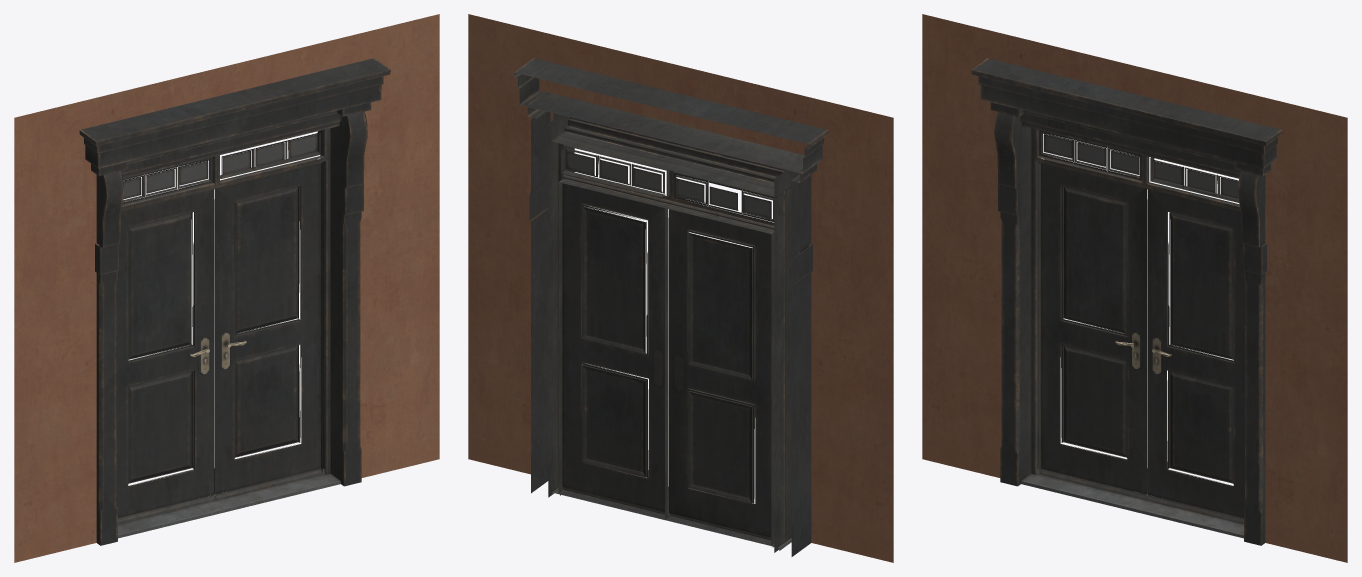
File: bay_door.gltf
3 views of the same model, side by side, from view 1: azimuth 30°, elevation 25°; view 2: azimuth 150°, elevation 25°; view 3: azimuth 330°, elevation 25° (orthographic).
Visible parts, largest first — view 1: bay_door; view 2: bay_door; view 3: bay_door.
Boxes of the visible parts, x1,y1,x2,y2 form: bay_door: [14, 14, 439, 562]; bay_door: [468, 14, 893, 562]; bay_door: [922, 14, 1347, 562].
Size of the model in its own units: 3 by 3 by 0.4387.
Materials: 3 (3 with a texture image).
